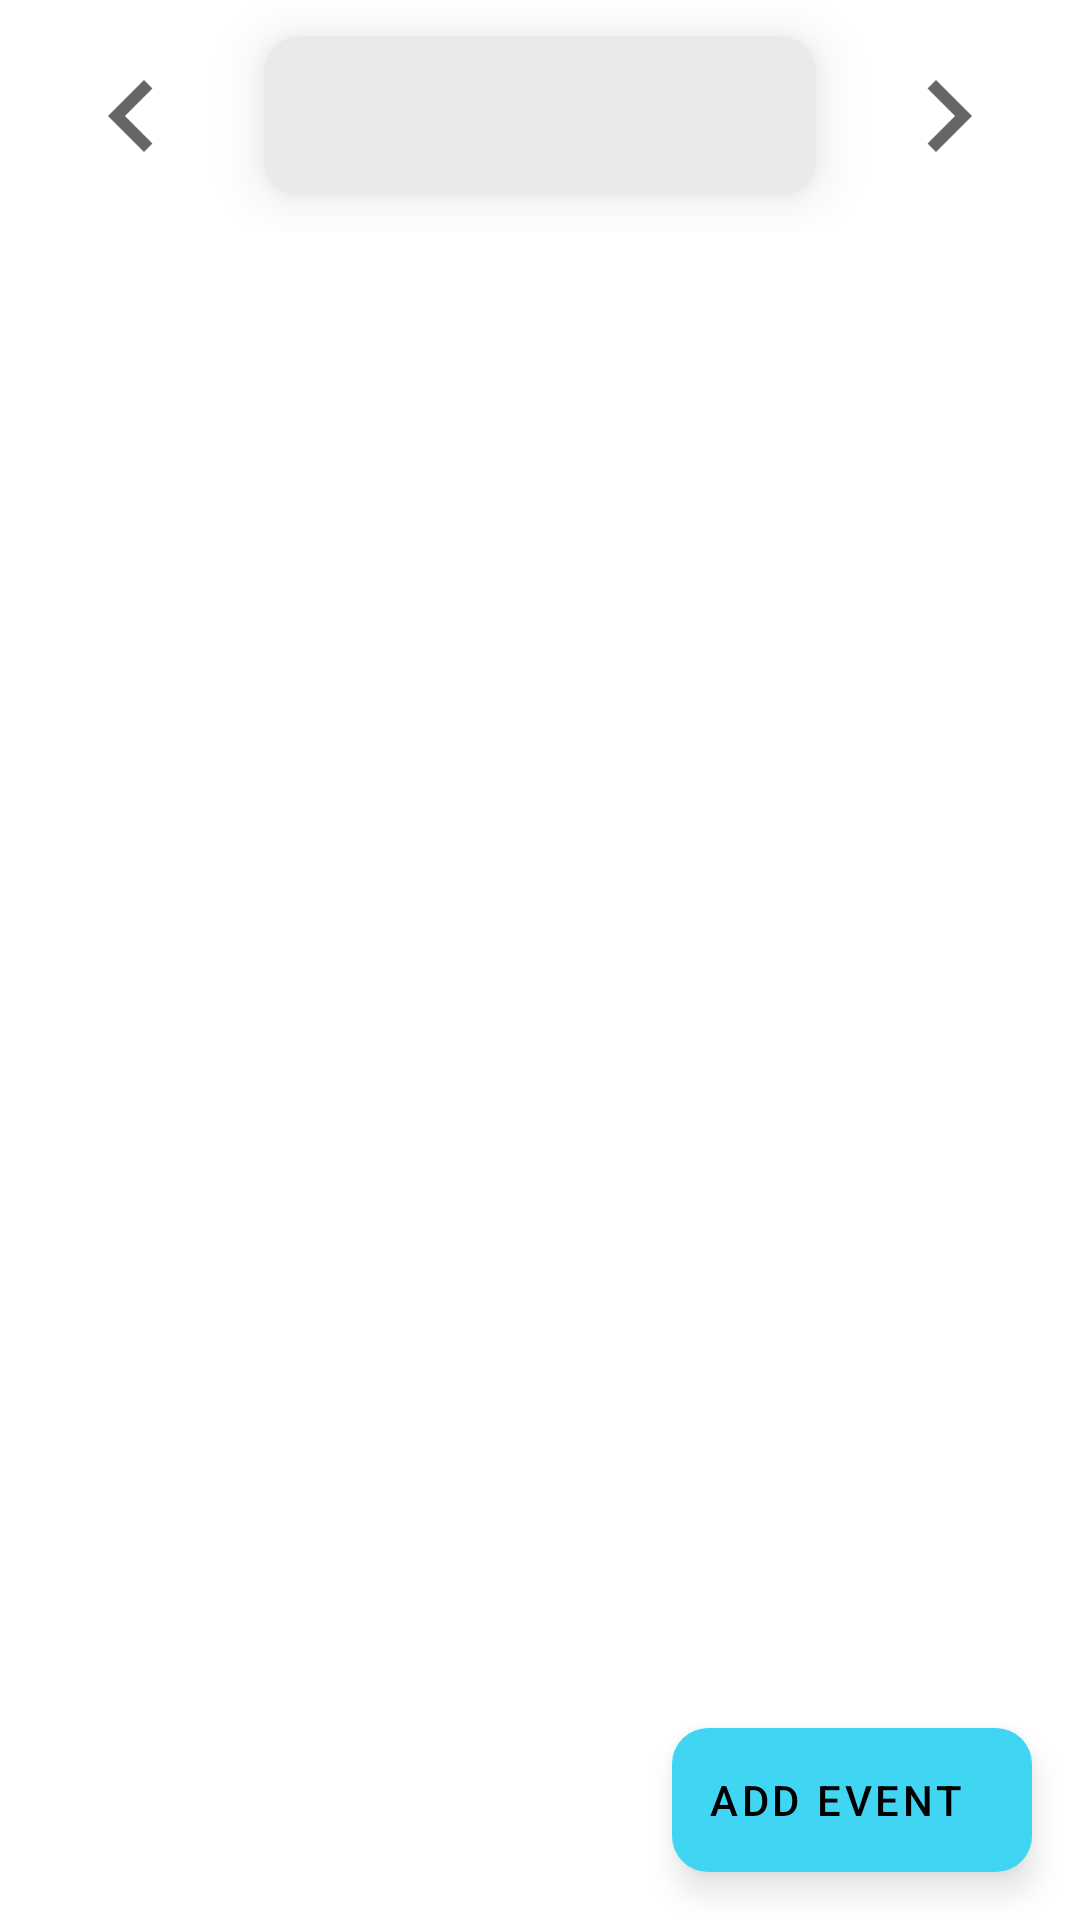

Icons on this 1080px×1920px Android screen, each with the point to tap as point (x, y):
Next date: point (949, 116)
Previous date: point (130, 116)
